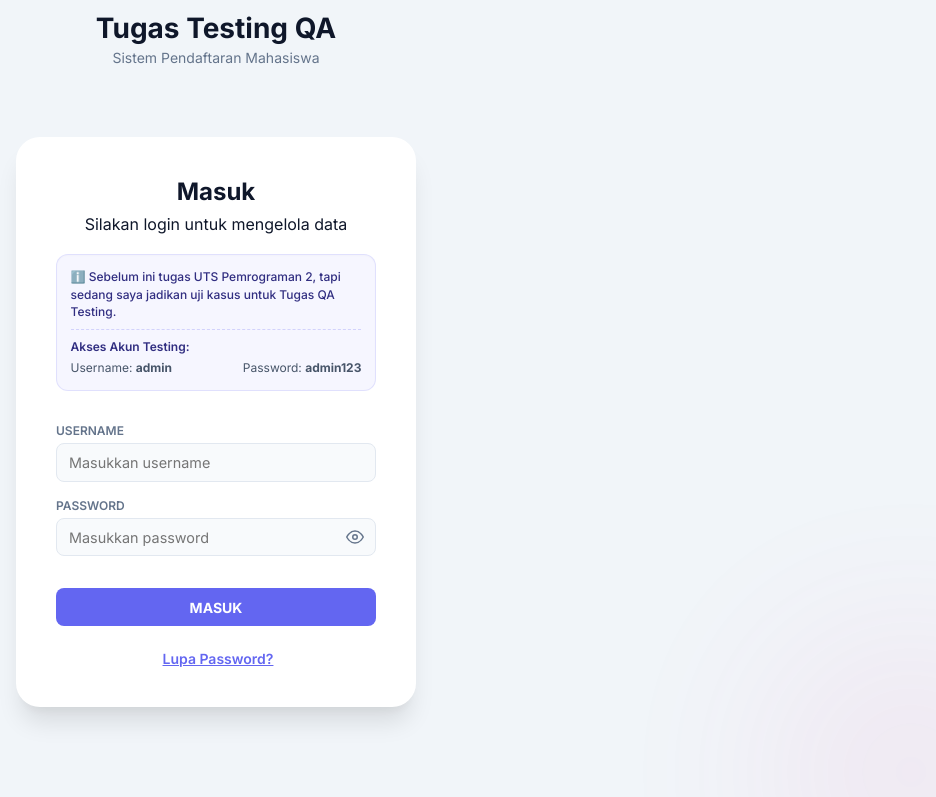
Test: App Component › Authentication - Login Validation › 1. should show error for empty username
Step 1. Click the button "MASUK" → point(216, 607), box [56,588,376,626]
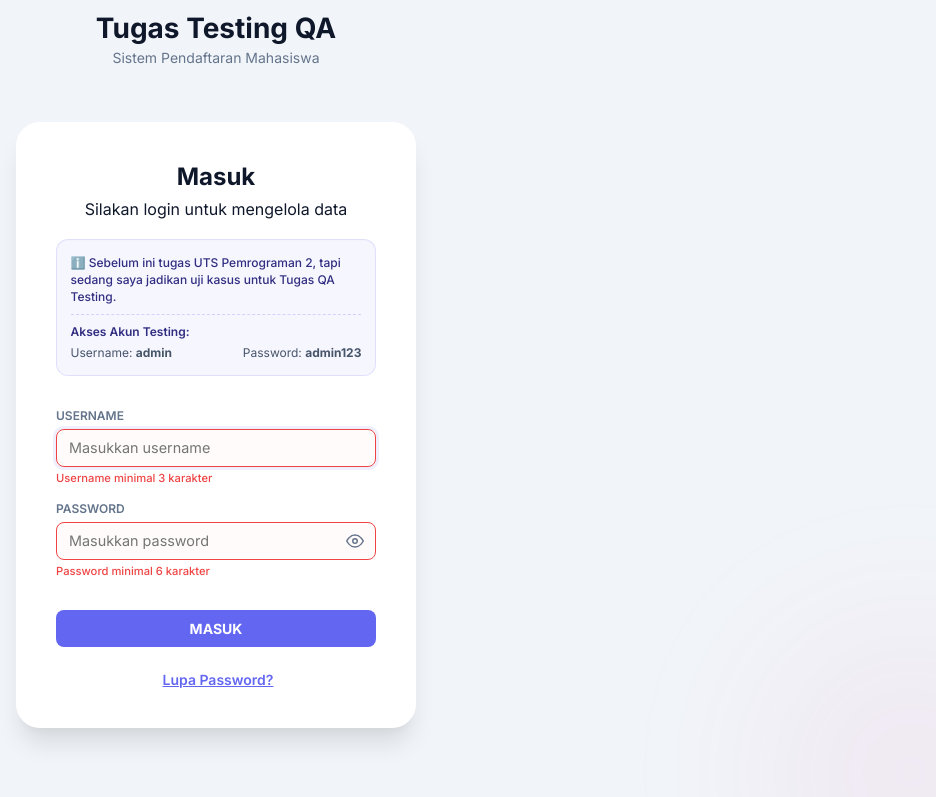
Now the text "Username minimal 3 karakter" is shown, box [56,471,212,485]
